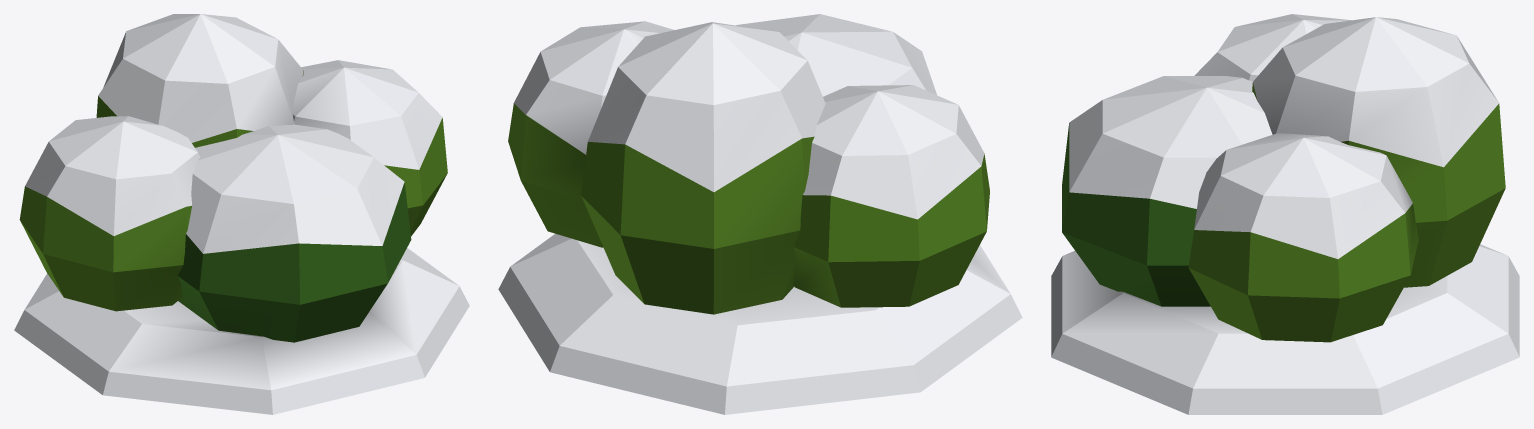
The model's file is snowy-bush.glb.
3 renders of one model, left to right at view 1: azimuth 30°, elevation 25°; view 2: azimuth 150°, elevation 25°; view 3: azimuth 270°, elevation 25°, orthographic. The views are drawn at different scales.
Visible parts, largest first — view 1: snowy-bush; view 2: snowy-bush; view 3: snowy-bush.
Part boxes in pixels (x1,y1,x2,y2): snowy-bush: [14, 14, 469, 414]; snowy-bush: [498, 14, 1022, 414]; snowy-bush: [1051, 14, 1519, 414].
Bounding box in the file's own units: 0.9 × 0.6 × 0.85.
Materials: 1 (1 with a texture image).
